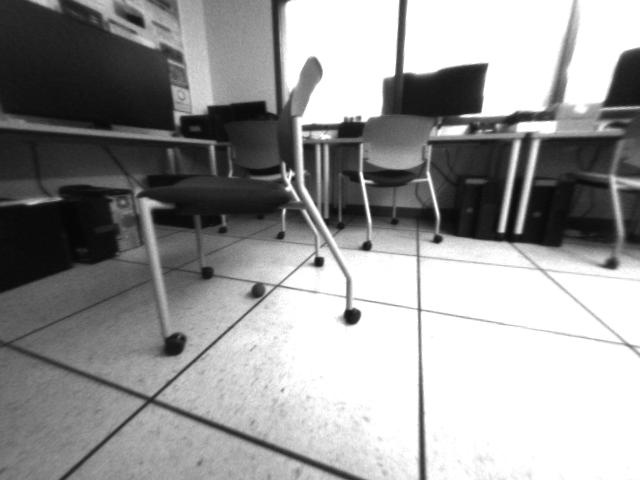dogtoy: (248, 279, 272, 300)
